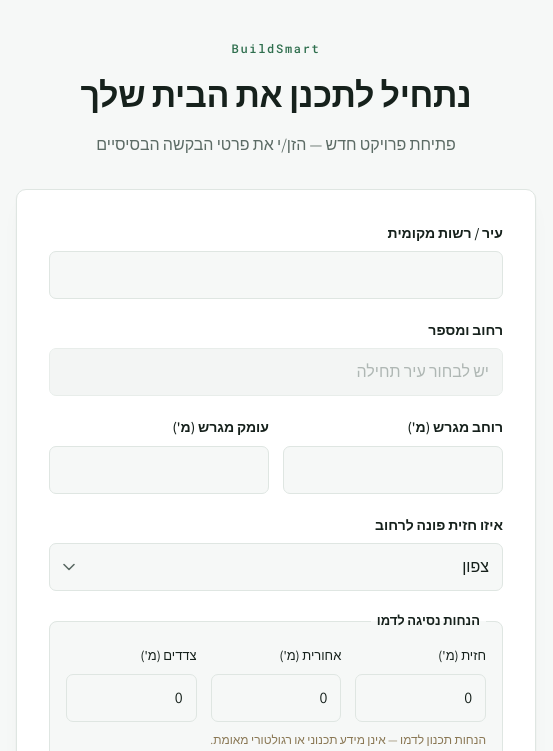
Test: App — brief + site -> the engine chooses the outline -> plan generation › opening the advanced disclosure fetches the site options and shows the outline cards
Type "תל אביב" into the dropdown labelled "עיר / רשות מקומית". click: [276, 275]
box: [49,251,503,299]
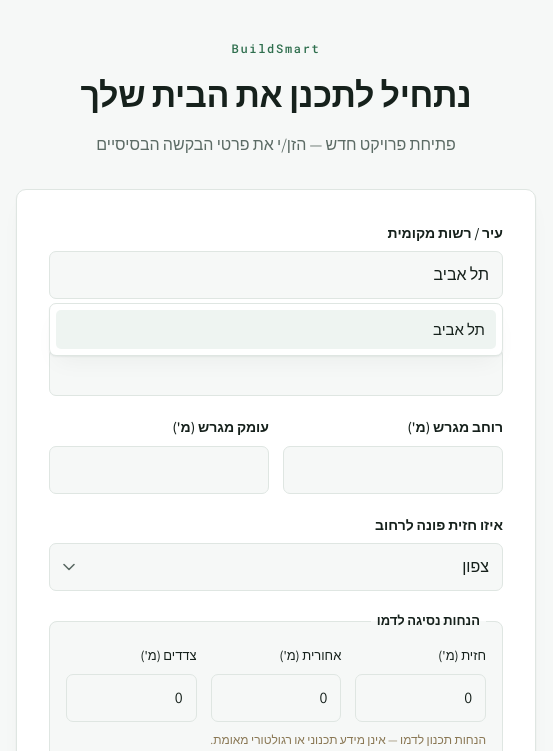
Expected: the dropdown labelled "רחוב ומספר" is enabled
Type "הרצל 1" into the dropdown labelled "רחוב ומספר". click: [276, 372]
box: [49,348,503,396]
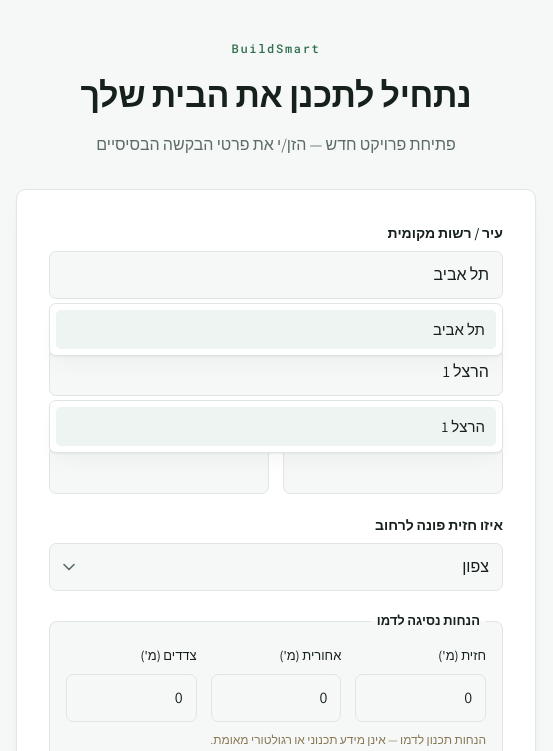
Type "30" into the number field labelled "רוחב מגרש (מ')". click: [393, 470]
box: [283,446,503,494]
Type "34" into the number field labelled "עומק מגרש (מ')". click: [159, 470]
box: [49,446,269,494]
(page scrolled)
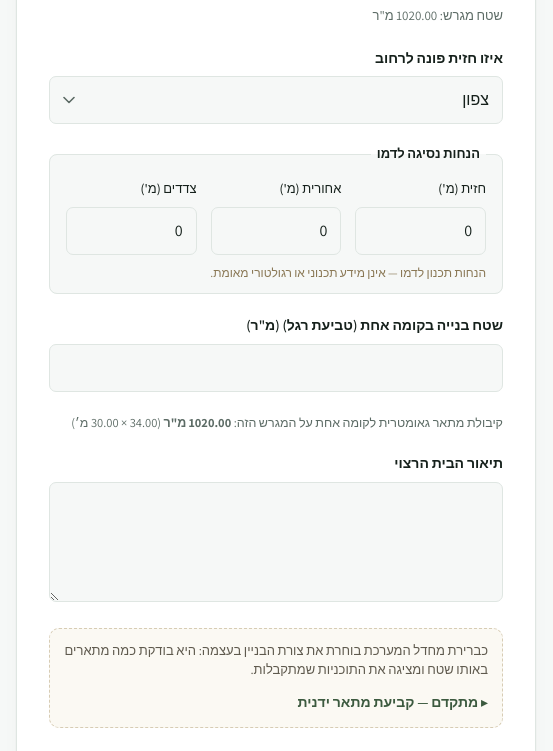
Type "120" into the number field labelled "שטח בנייה בקומה אחת (טביעת רגל) (מ\"ר)". click: [276, 368]
box: [49,344,503,392]
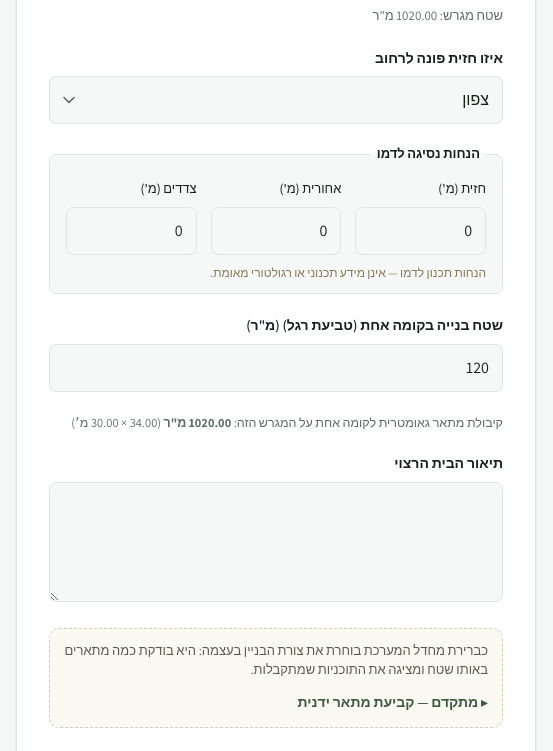
Type "בית עם 3 חדרי שינה" into the text box labelled "תיאור הבית הרצוי". click: [276, 542]
box: [49,482,503,602]
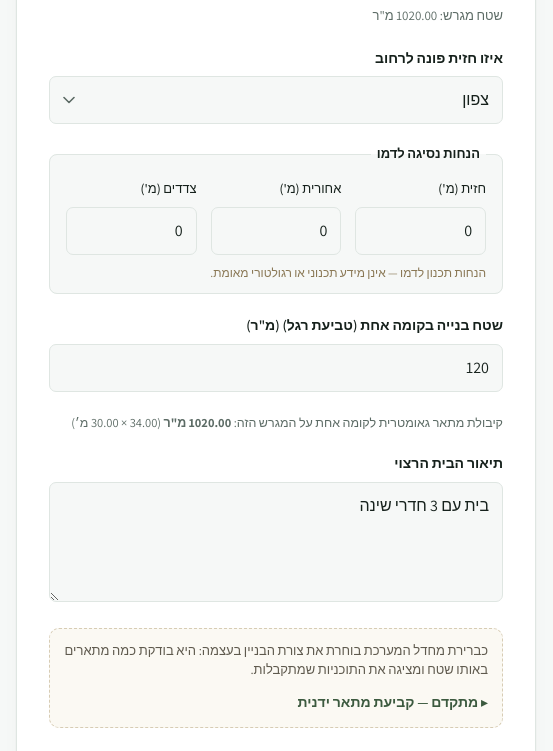
Click the button "▸ מתקדם — קביעת מתאר ידנית". click: [393, 702]
box: [298,691,488,713]
(page scrolled)
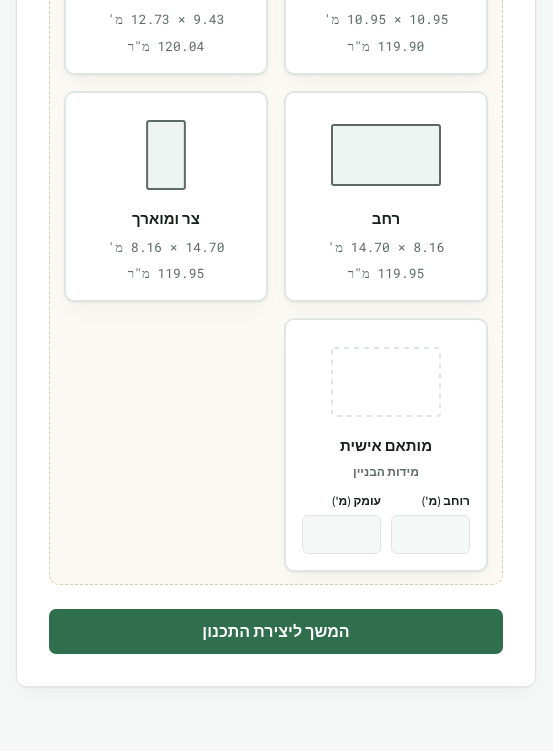
Expected: the text "רחב" is shown, [372,207,400,231]
Expected: the text "צר ומוארך" is shown, [132,207,200,231]
Expected: the element with test id "footprint-card-custom" is shown, [284,318,488,572]
